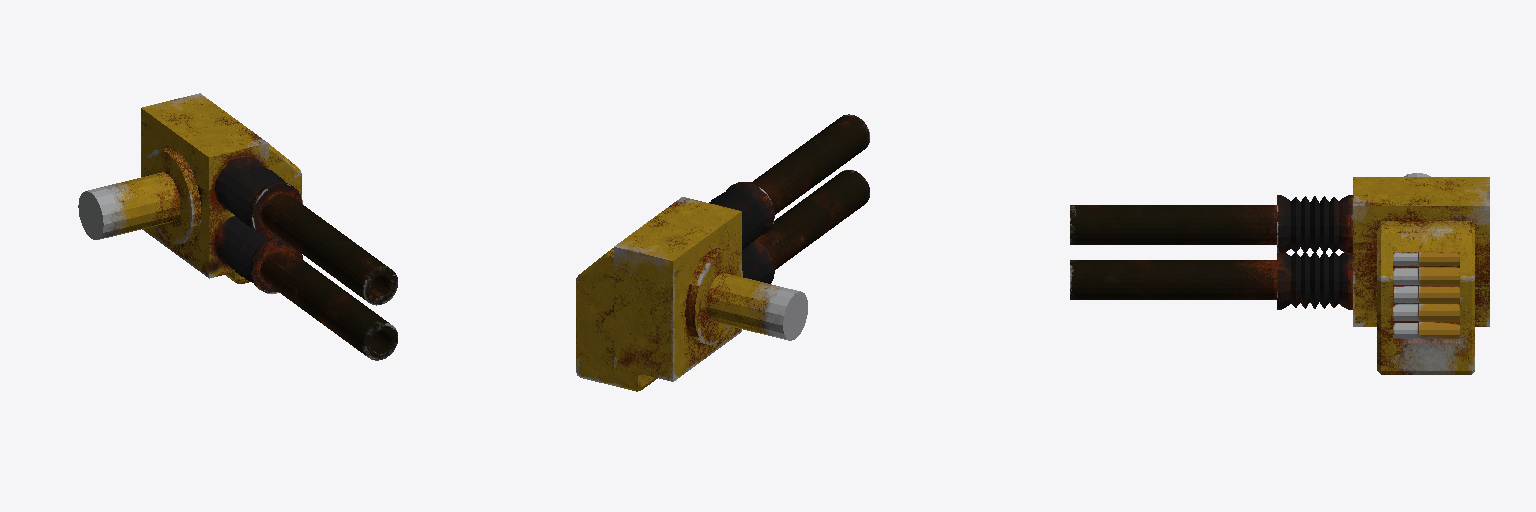
3 views of the same model, side by side, from view 1: azimuth 30°, elevation 25°; view 2: azimuth 150°, elevation 25°; view 3: azimuth 270°, elevation 25° (orthographic).
Visible parts, largest first — view 1: Box002; view 2: Box002; view 3: Box002.
Boxes of the visible parts, <box> form: Box002: <box>78,93,397,360</box>; Box002: <box>576,114,869,391</box>; Box002: <box>1070,173,1489,374</box>.
Size of the model in its own units: 0.7251 by 0.5328 by 1.37.
Materials: 1 (1 with a texture image).